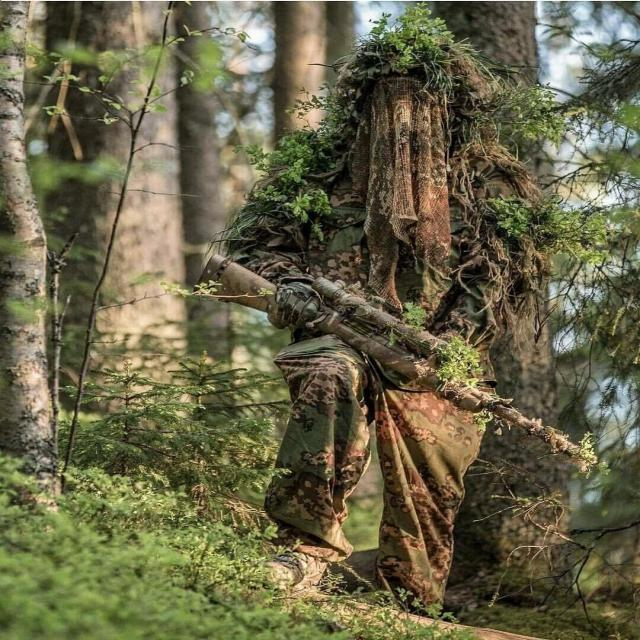Human: (192, 4, 595, 616)
